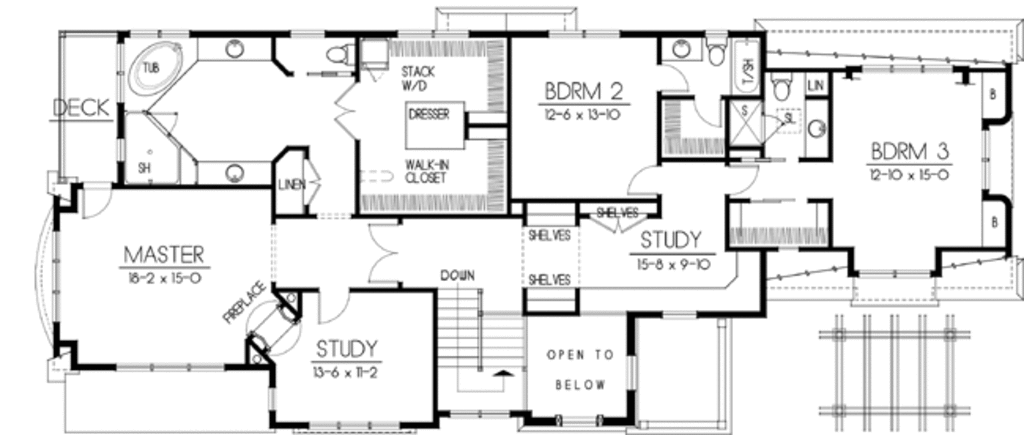door: (365, 220, 397, 287), (332, 81, 360, 141), (625, 164, 662, 200), (727, 162, 764, 198), (315, 288, 349, 327), (80, 183, 114, 220), (658, 62, 693, 94), (691, 94, 723, 128)
large_sink: (325, 42, 362, 72), (768, 71, 797, 104), (705, 35, 730, 68)
small_sink: (195, 36, 272, 62), (195, 160, 271, 186), (804, 100, 831, 159), (659, 35, 704, 62)
stairs: (435, 285, 529, 410)
tub: (126, 41, 191, 96), (729, 36, 759, 97)
windows: (112, 360, 226, 375), (49, 228, 63, 326), (306, 419, 407, 432), (979, 126, 995, 195), (393, 28, 471, 42), (852, 268, 937, 280), (624, 353, 644, 397), (546, 28, 623, 39), (555, 413, 603, 430), (658, 309, 701, 325), (446, 408, 514, 417)
